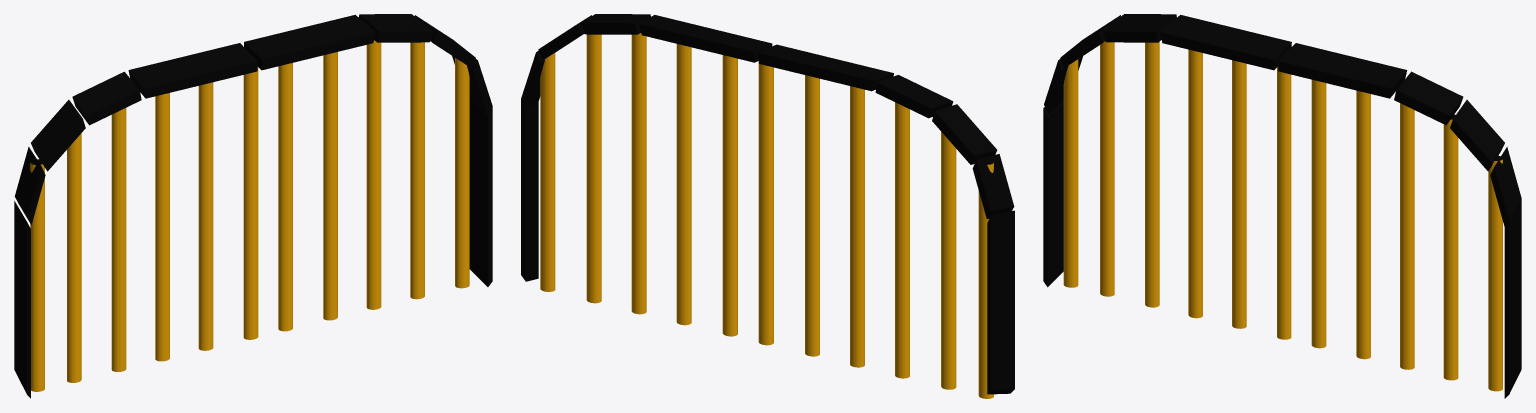
Rendered from FinalCastleGate.fbx.
The picture shows the model from 3 angles, left to right: view 1: azimuth 30°, elevation 25°; view 2: azimuth 150°, elevation 25°; view 3: azimuth 330°, elevation 25°; orthographic projection. The views are drawn at different scales.
Parts seen in each view (by area): view 1: Cylinder.003; view 2: Cylinder.003; view 3: Cylinder.003.
Boxes of the visible parts, x1=… form: Cylinder.003: x1=14, y1=14, x2=492, y2=398; Cylinder.003: x1=521, y1=14, x2=1014, y2=398; Cylinder.003: x1=1043, y1=14, x2=1521, y2=398.
Size of the model in its own units: 649 by 383 by 42.95.
